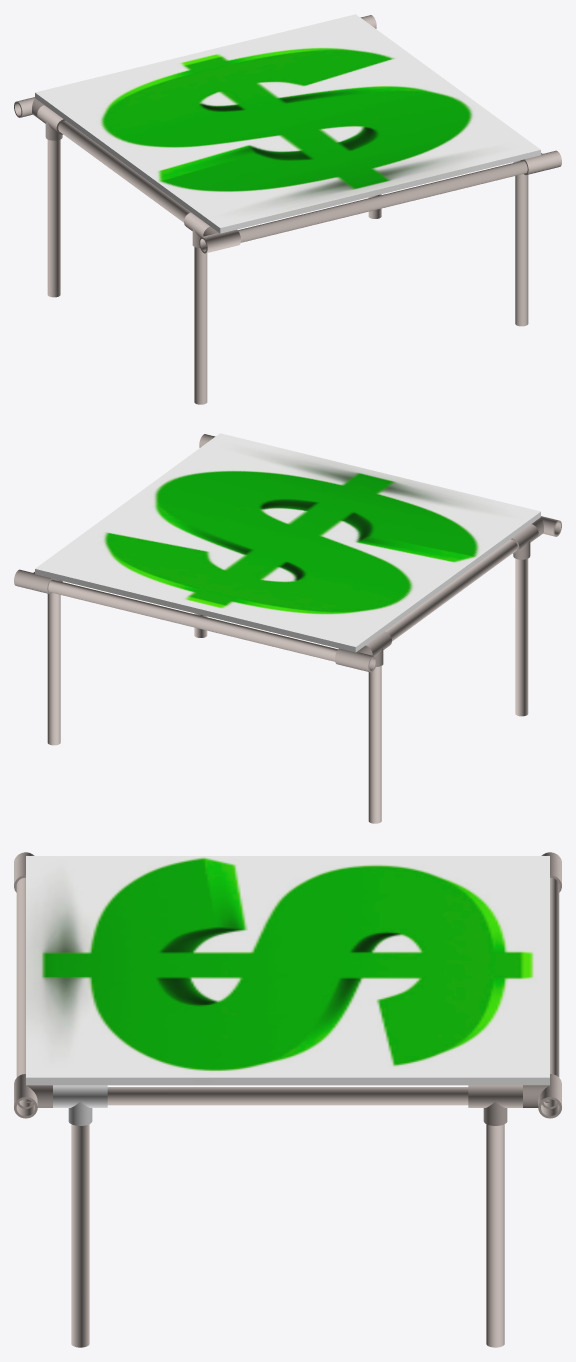
The model's file is table_bootlegger.dae.
3 renders of one model, top to bottom at view 1: azimuth 30°, elevation 25°; view 2: azimuth 150°, elevation 25°; view 3: azimuth 270°, elevation 25°, orthographic. The views are drawn at different scales.
Visible parts, largest first — view 1: canvas, pipe_frame_4, pipe_leg_2, pipe_leg_3, pipe_leg_4, pipe_frame_1, T_corner_3, T_corner_4, T_leg_2; view 2: canvas, pipe_frame_2, pipe_leg_3, pipe_leg_2, pipe_leg_1, pipe_frame_1, T_corner_2, T_corner_1, T_leg_3; view 3: canvas, pipe_frame_3, pipe_leg_4, pipe_leg_1, pipe_frame_4, pipe_frame_2, T_leg_4, T_leg_1, T_corner_4, T_corner_1.
Part boxes in pixels (x1,y1,x2,y2): canvas: (35,14,540,233); pipe_frame_4: (238,160,527,242); pipe_leg_2: (47,139,60,297); pipe_leg_3: (194,247,207,404); pipe_leg_4: (515,174,528,326); pipe_frame_1: (58,120,190,222); T_corner_3: (199,226,240,253); T_corner_4: (520,150,561,174); T_leg_2: (37,105,65,140); canvas: (35,433,540,652); pipe_frame_2: (48,579,337,661); pipe_leg_3: (515,558,528,716); pipe_leg_2: (368,666,381,823); pipe_leg_1: (47,593,60,745); pipe_frame_1: (385,539,517,641); T_corner_2: (335,645,376,672); T_corner_1: (14,569,55,593); T_leg_3: (510,524,538,559); canvas: (26,856,549,1085); pipe_frame_3: (107,1087,468,1105); pipe_leg_4: (71,1124,89,1347); pipe_leg_1: (486,1124,504,1347); pipe_frame_4: (16,877,25,1077); pipe_frame_2: (550,877,559,1077); T_leg_4: (53,1085,107,1125); T_leg_1: (468,1085,522,1125); T_corner_4: (14,1074,52,1118); T_corner_1: (523,1074,561,1118).
Bounding box in the file's own units: 0.6731 × 0.6371 × 0.3413.
Materials: 3 (1 with a texture image).
